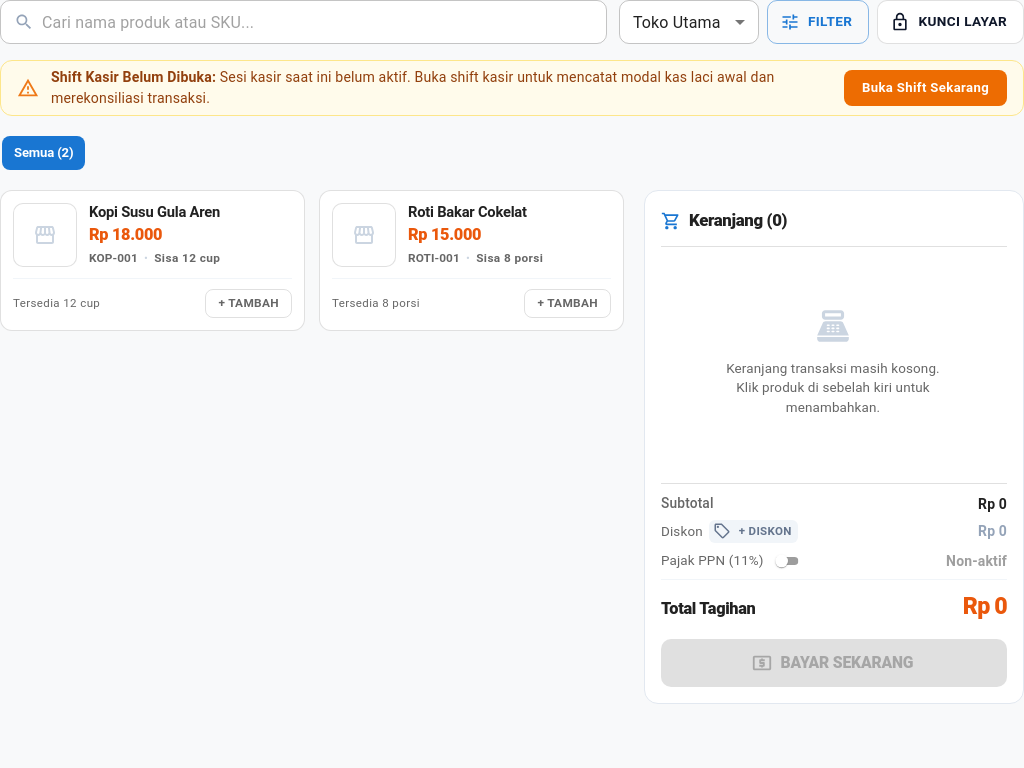
PosPage › applies promo voucher code, recalculates discount, and submits promo with order
Click the heading "Kopi Susu Gula Aren" at [154, 212], box [89, 203, 220, 221]
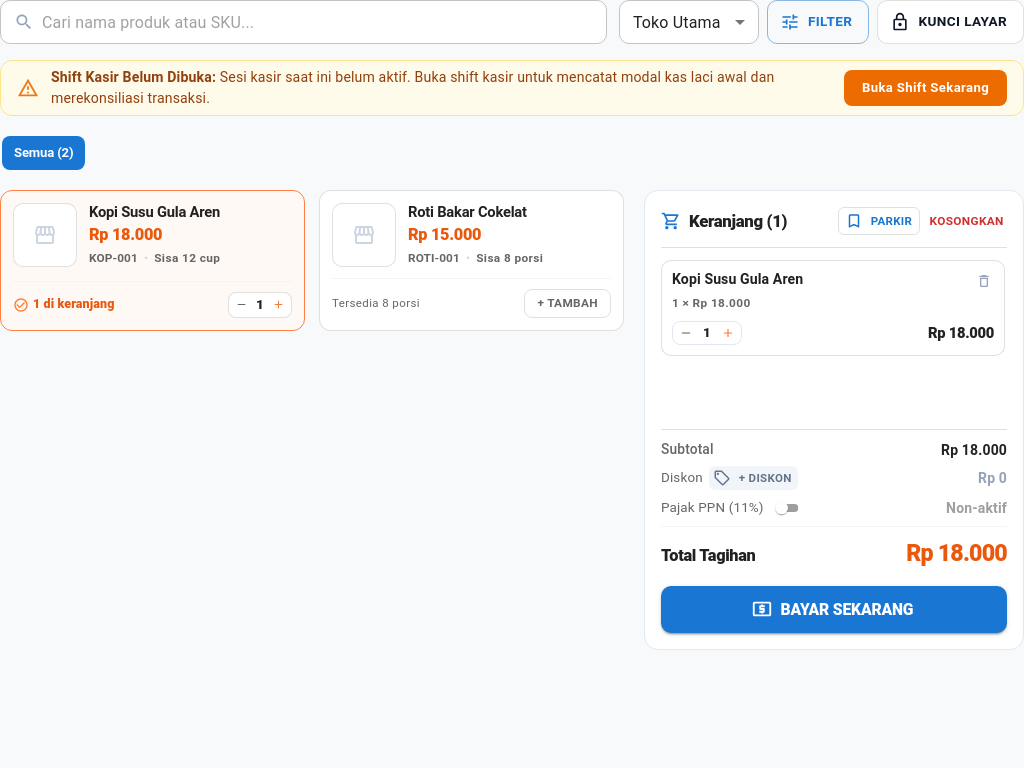
Open discount & voucher modal
Click the button "+ Diskon" at [753, 478], box [709, 466, 798, 490]
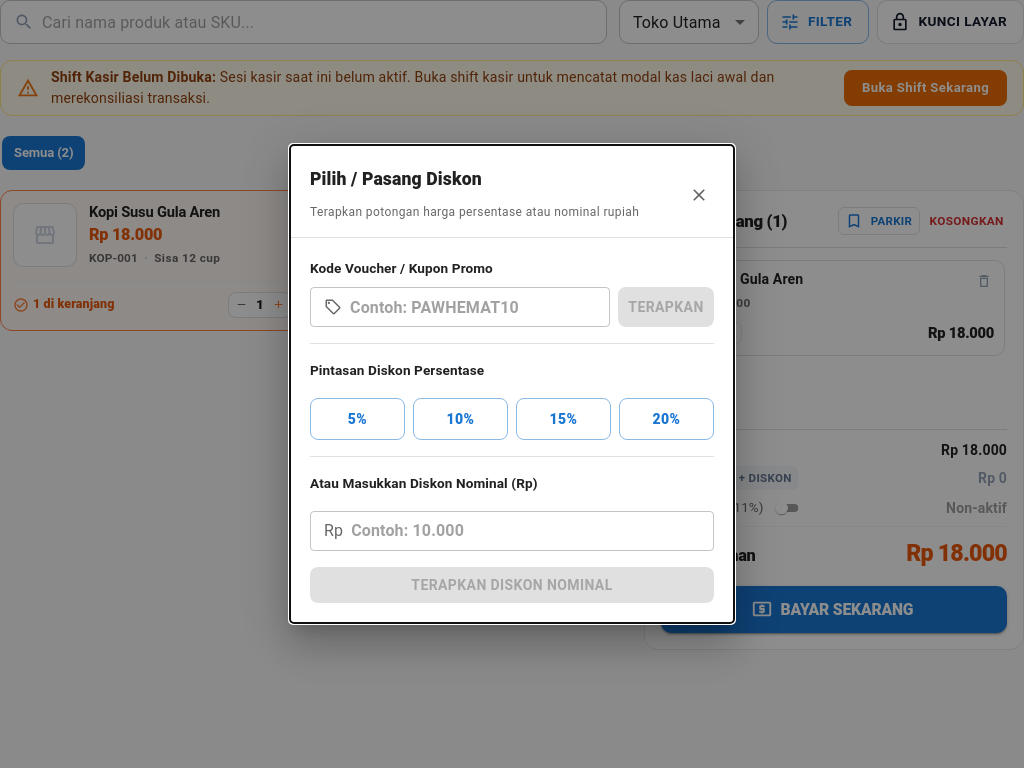
expect the heading "Kode Voucher / Kupon Promo" is shown: met, box [310, 260, 493, 276]
Type voucher code
Type "pawhemat10" into the field with placeholder "Contoh: PAWHEMAT10" at [480, 307], box [350, 287, 610, 327]
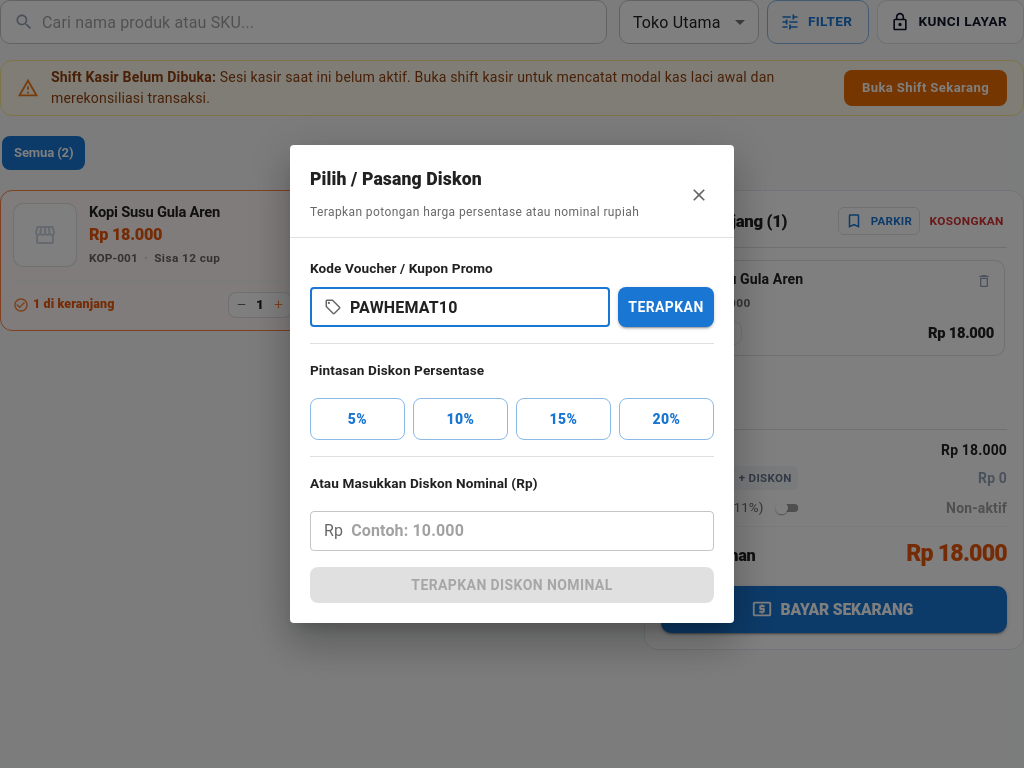
Click Terapkan
Click the button "Terapkan" at [666, 307], box [618, 287, 714, 327]
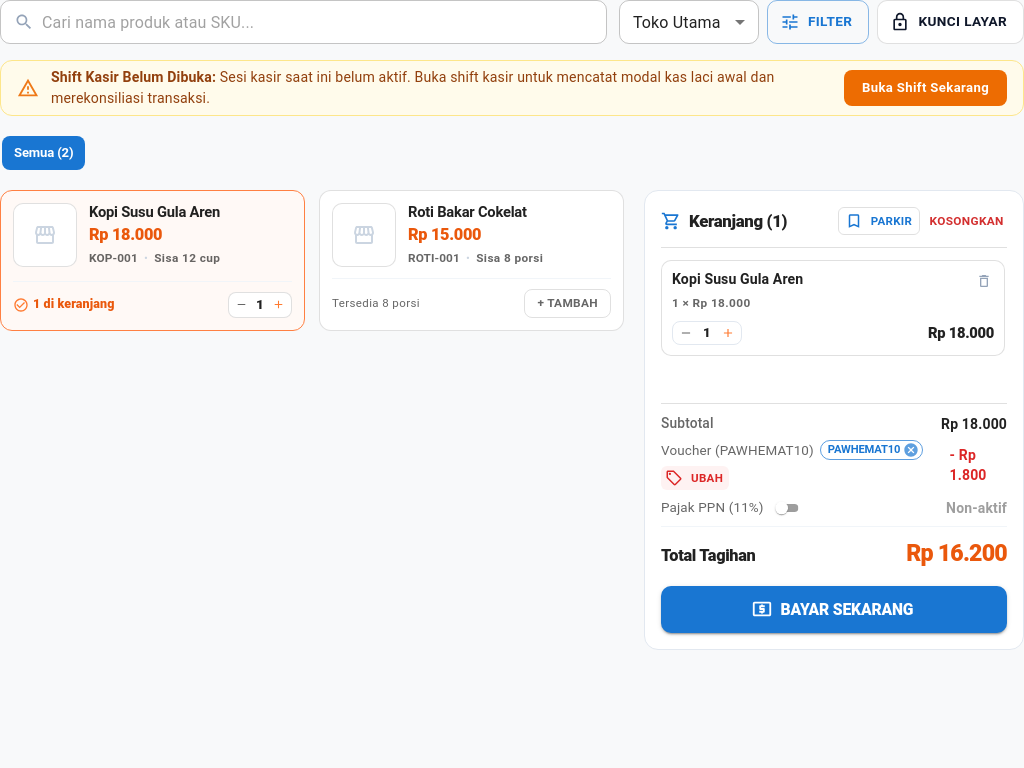
expect the dialog is gone: met
expect the text "Voucher (PAWHEMAT10)" is shown: met, box [661, 441, 814, 460]
expect the text "- Rp 1.800" is shown: met, box [950, 447, 987, 483]
Proceed to checkout
Click the button "Bayar Sekarang" at [834, 610], box [661, 586, 1007, 633]
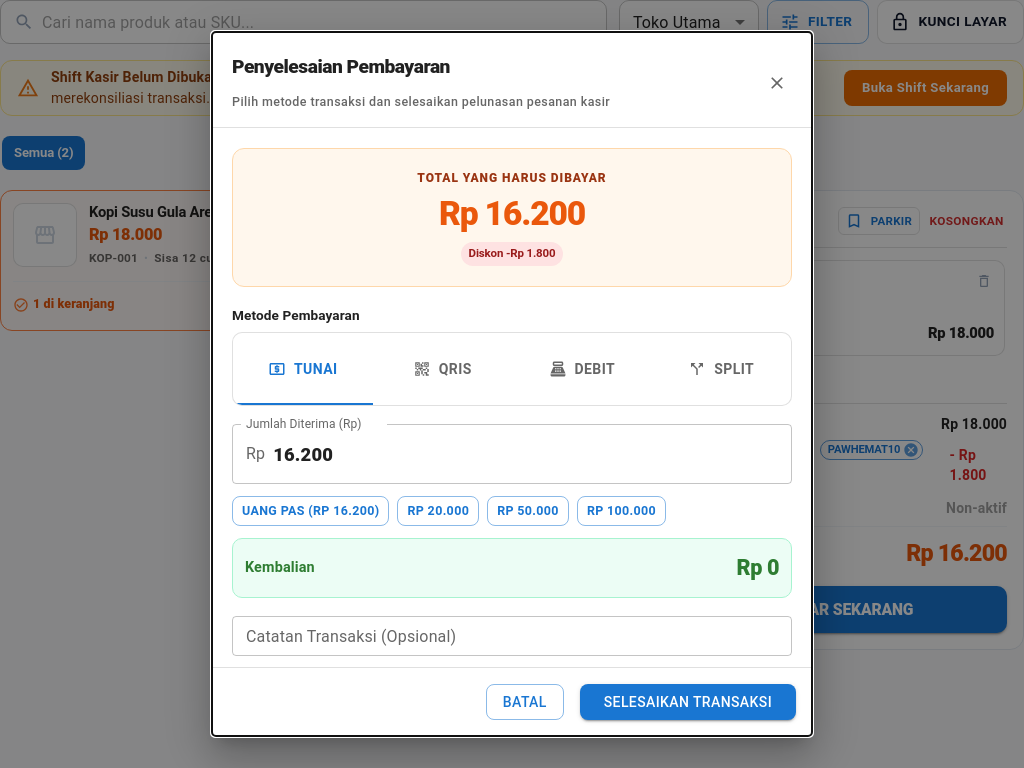
Click the button "Selesaikan Transaksi" at [688, 702], box [580, 684, 796, 720]
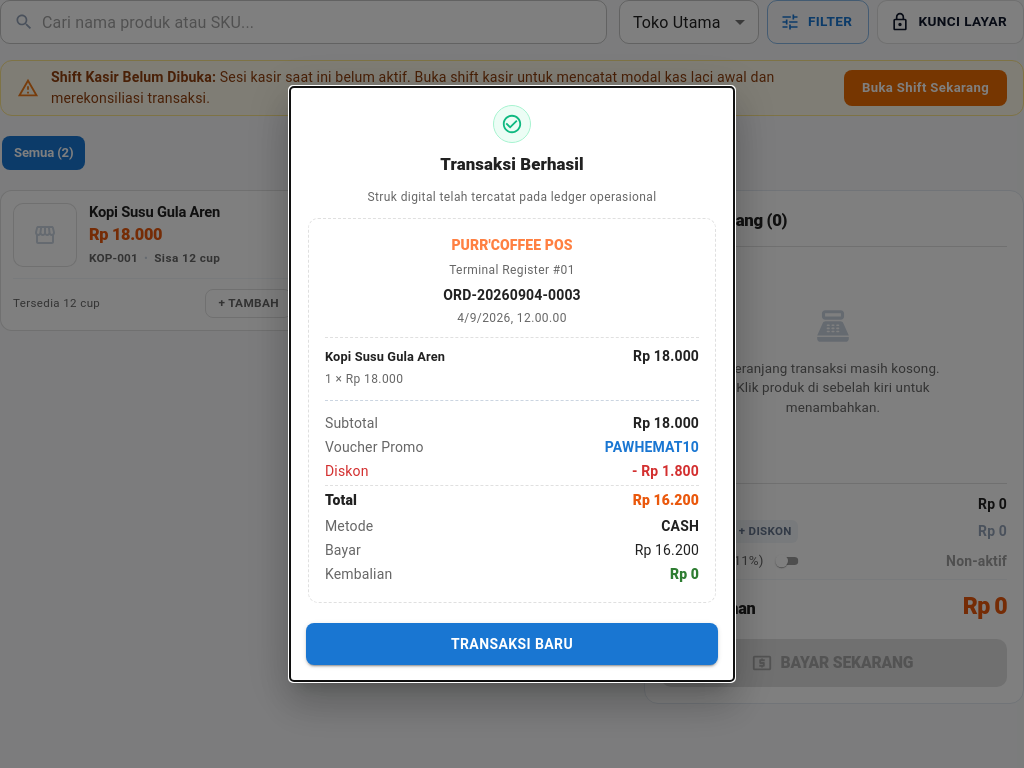
expect the text "PAWHEMAT10" is shown: met, box [605, 437, 699, 457]
expect the heading "Transaksi Berhasil" is shown: met, box [440, 154, 584, 174]
expect the text "Voucher Promo" is shown: met, box [325, 437, 424, 457]
